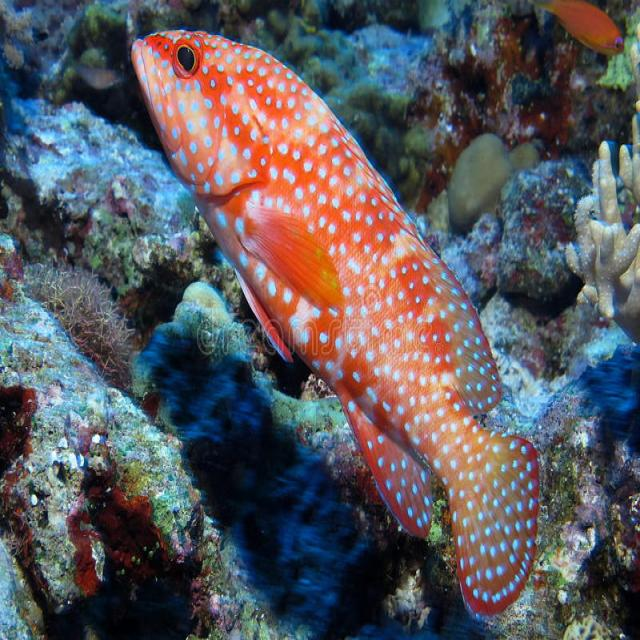Plectropomus-leopardus: (125, 9, 560, 617)
